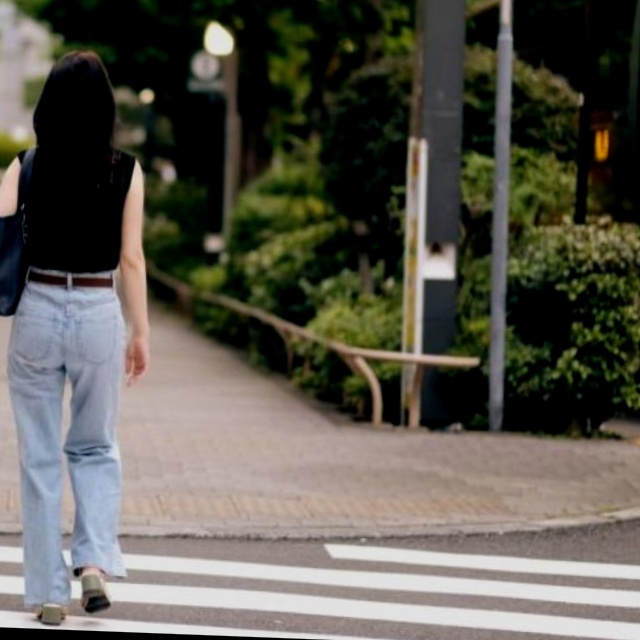Sin_Casco_Mascarrilla: (36, 47, 118, 141)
Sin_Chaleco: (10, 140, 143, 299)
